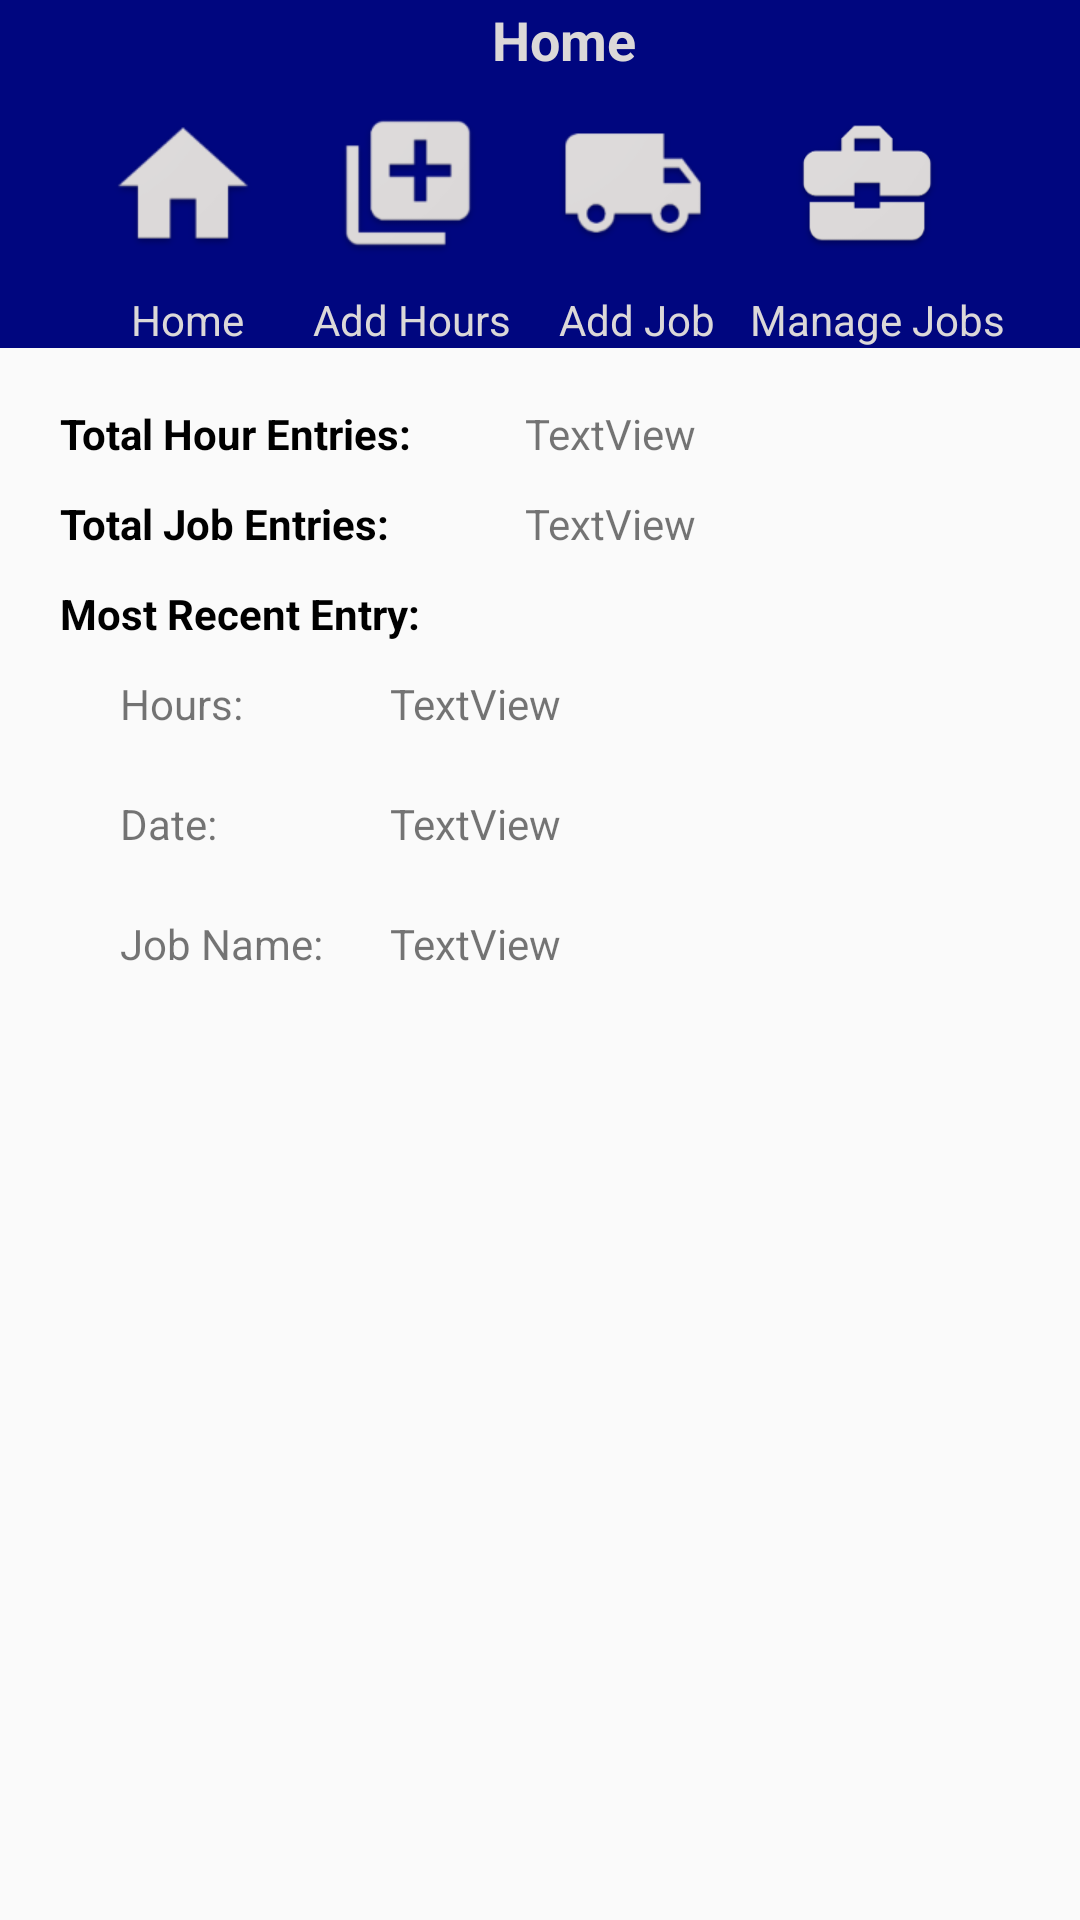

Screen size 1080px×1920px. Icon name, then its center in pixels as [x,y]:
job manager: [867,183]
